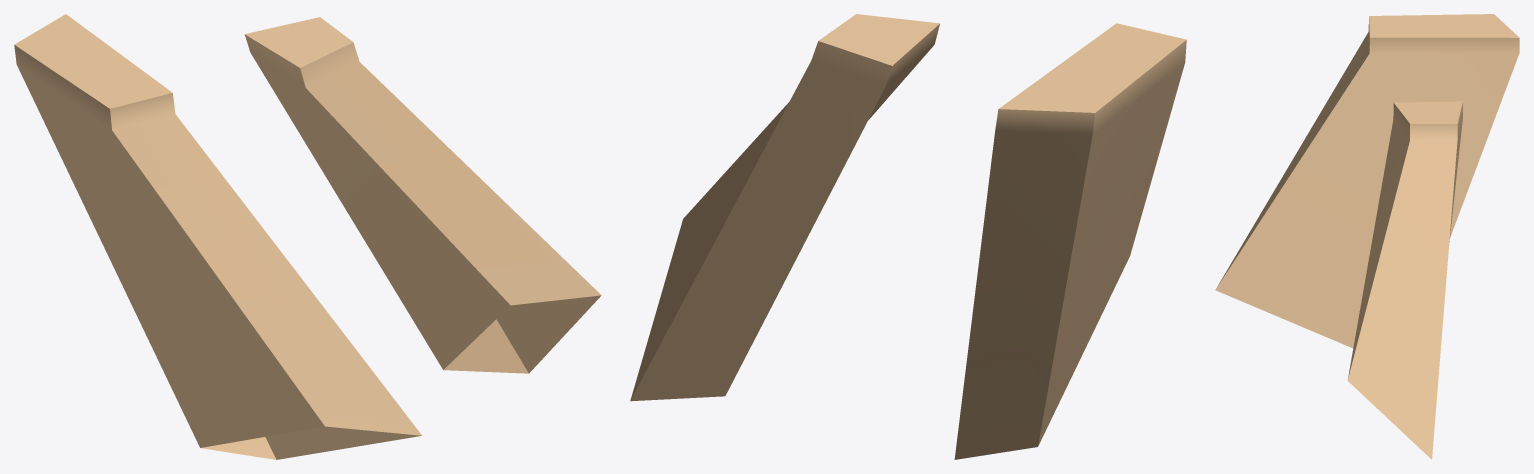
The model's file is AI_FX_LightRay_03.fbx.
3 renders of one model, left to right at view 1: azimuth 30°, elevation 25°; view 2: azimuth 150°, elevation 25°; view 3: azimuth 270°, elevation 25°, orthographic. The views are drawn at different scales.
Parts seen in each view (by area): view 1: AI_FX_LightRay_03; view 2: AI_FX_LightRay_03; view 3: AI_FX_LightRay_03.
Boxes of the visible parts, <box> form: AI_FX_LightRay_03: <box>14,14,601,459</box>; AI_FX_LightRay_03: <box>630,14,1186,459</box>; AI_FX_LightRay_03: <box>1215,14,1519,459</box>.
Size of the model in its own units: 5.13 by 4.21 by 4.03.
